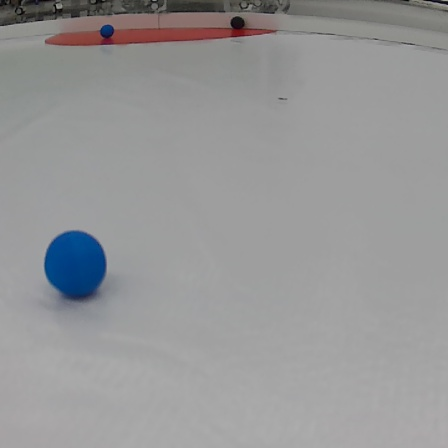black: (229, 17, 246, 31)
blue: (46, 230, 108, 304), (99, 25, 115, 39)
red_base: (43, 30, 281, 48)
